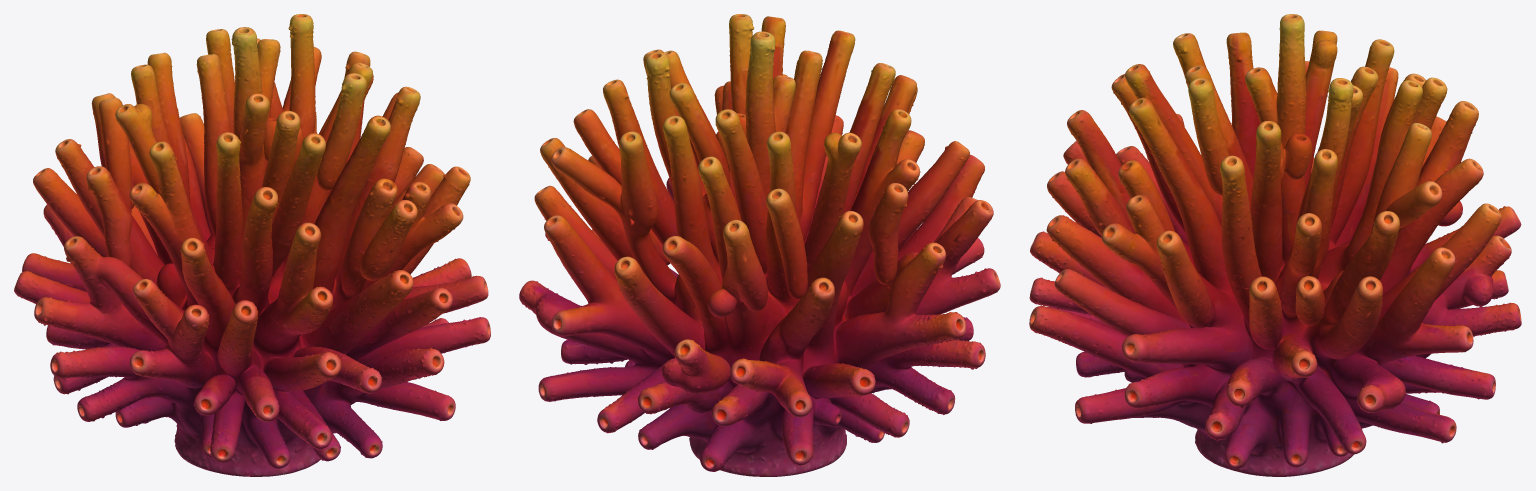
The model's file is vibrant-acropora.glb.
3 renders of one model, left to right at view 1: azimuth 30°, elevation 25°; view 2: azimuth 150°, elevation 25°; view 3: azimuth 270°, elevation 25°, orthographic. The views are drawn at different scales.
Visible parts, largest first — view 1: material; view 2: material; view 3: material.
Boxes of the visible parts, left/top/right/bottom form: material: left=14, top=14, right=490, bottom=476; material: left=519, top=14, right=1000, bottom=476; material: left=1029, top=14, right=1521, bottom=476.
Size of the model in its own units: 1.03 by 0.9819 by 1.03.
1 material, 1 textured.
